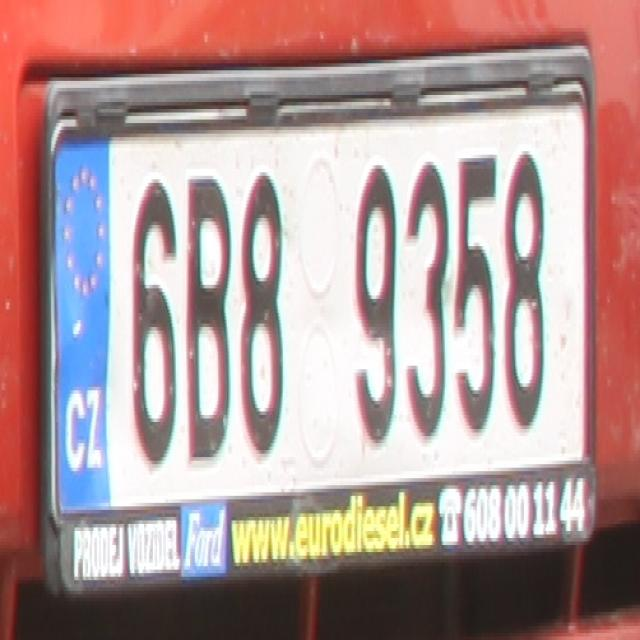3: (406, 165, 448, 443)
5: (458, 154, 496, 426)
6: (130, 176, 177, 471)
8: (241, 168, 284, 454), (502, 155, 546, 429)
9: (352, 162, 396, 436)
B: (185, 172, 229, 464)
